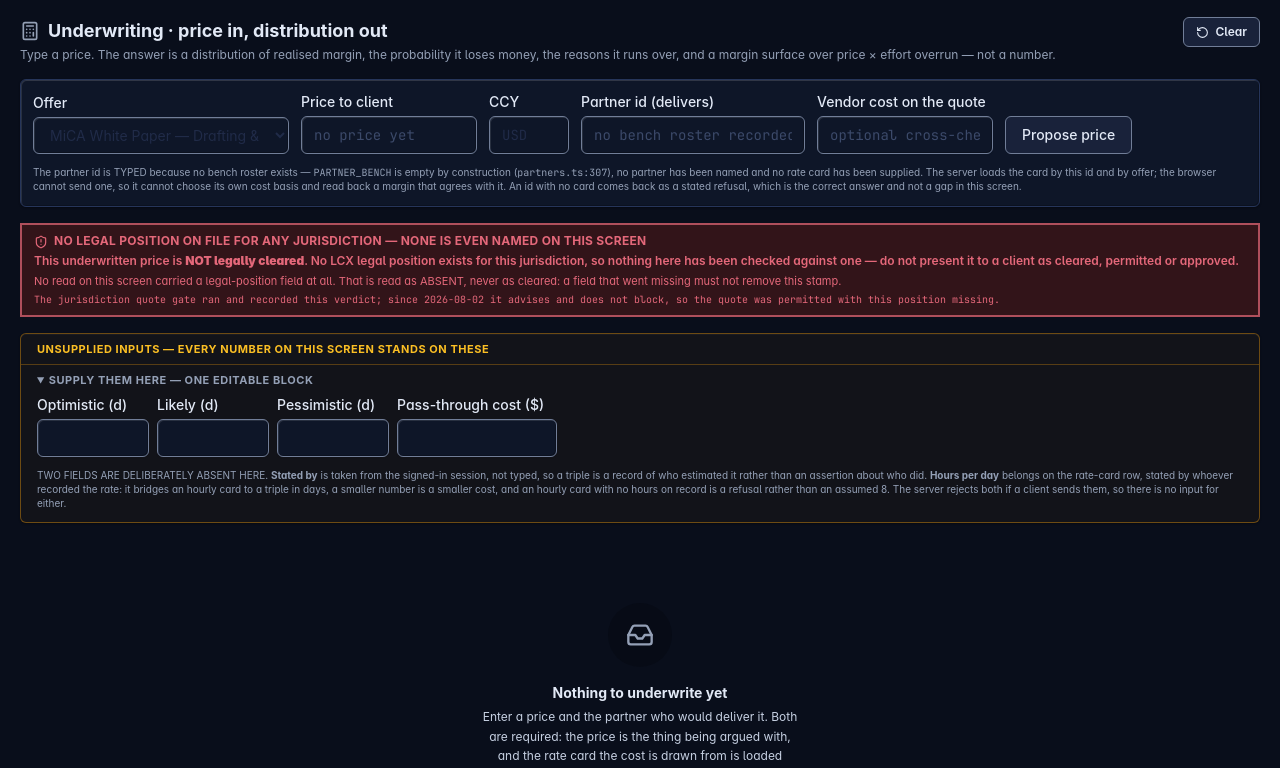
Scenario: a refusal › shows the verdict and every reason, and shows NO band, no P(loss) and no slider
Type "10000" into the field with test id "price-input" at (389,135), box [301, 116, 477, 154]
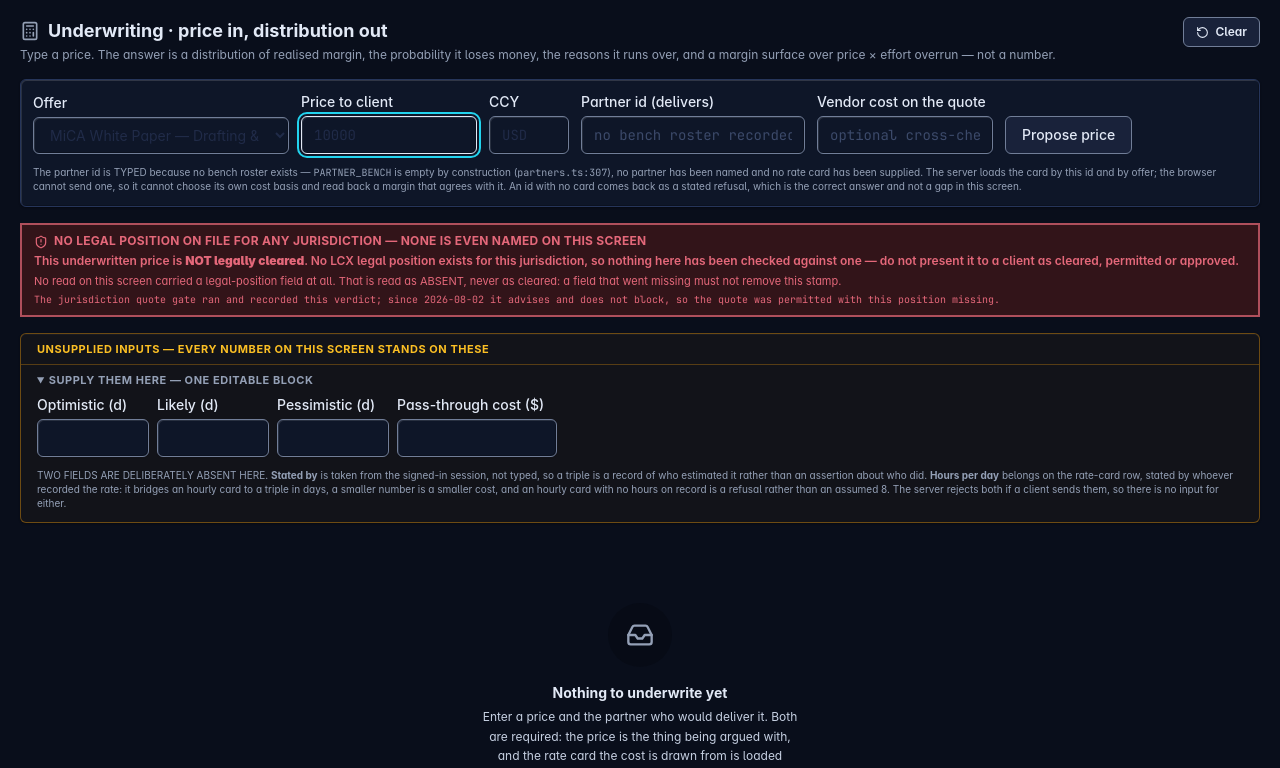
Type "partner-1" into the field with test id "partner-input" at (693,135), box [581, 116, 805, 154]
(page scrolled)
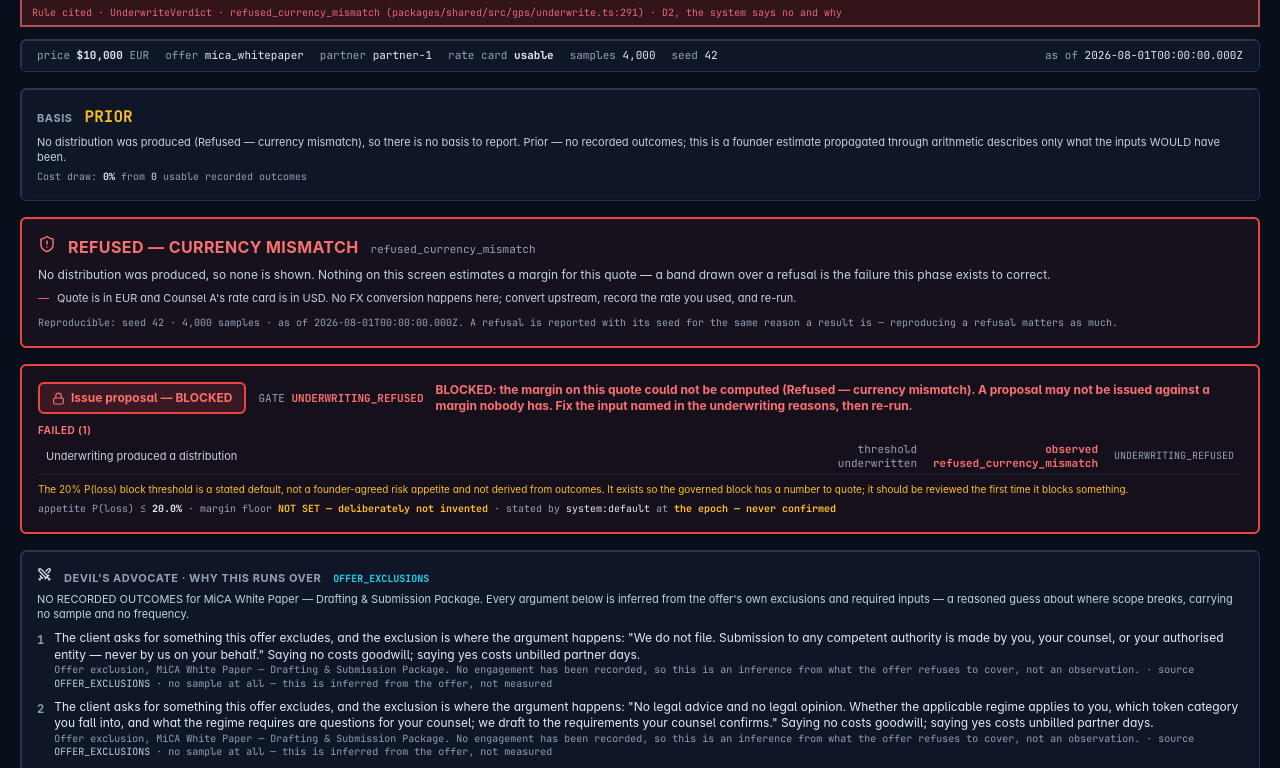
Check: the text with test id "refusal-code" reads "refused_currency_mismatch", box [370, 242, 536, 256]
Check: the button with test id "issue-control" is disabled, box [38, 382, 246, 414]
Check: the text with test id "issue-code" reads "underwriting_refused", box [292, 391, 424, 405]
